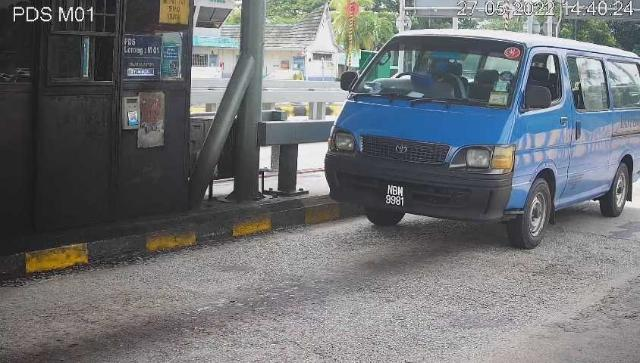License_Plate: (383, 182, 411, 213)
van: (327, 30, 640, 253)
